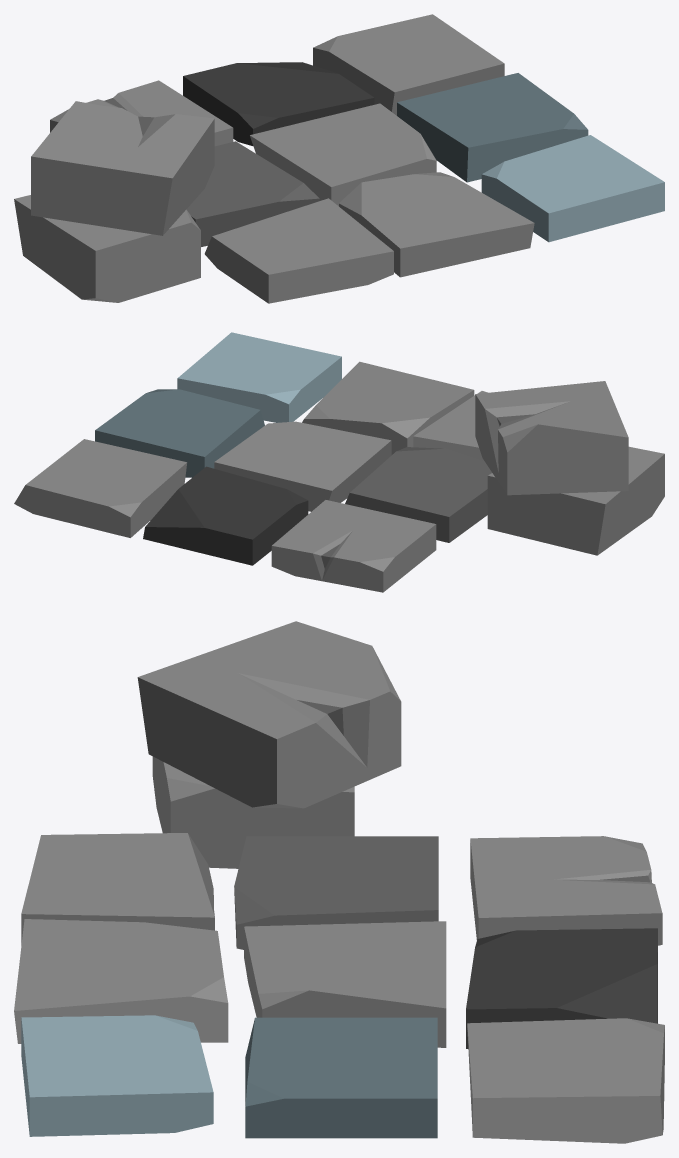
Rendered from road_3.glb.
3 views of the same model, one above another, from view 1: azimuth 30°, elevation 25°; view 2: azimuth 150°, elevation 25°; view 3: azimuth 270°, elevation 25° (orthographic). The views are drawn at different scales.
Visible parts, largest first — view 1: Cube.010, Cube.003, Cube.006, Cube.002, Cube.001, Cube.009, Cube.004, Cube, Cube.005, Cube.007, Cube.008; view 2: Cube.010, Cube, Cube.008, Cube.005, Cube.009, Cube.002, Cube.004, Cube.007, Cube.001, Cube.003, Cube.006; view 3: Cube.010, Cube, Cube.001, Cube.002, Cube.003, Cube.004, Cube.007, Cube.008, Cube.005, Cube.006, Cube.009.
Boxes of the visible parts, <box> form: Cube.010: <box>31,101,214,235</box>; Cube.003: <box>339,172,534,277</box>; Cube.006: <box>204,198,393,303</box>; Cube.002: <box>481,135,664,242</box>; Cube.001: <box>397,73,588,182</box>; Cube.009: <box>14,195,200,302</box>; Cube.004: <box>250,103,436,206</box>; Cube: <box>313,14,504,115</box>; Cube.005: <box>183,62,374,145</box>; Cube.007: <box>186,141,319,246</box>; Cube.008: <box>50,80,233,146</box>; Cube.010: <box>475,381,628,495</box>; Cube: <box>14,439,187,537</box>; Cube.008: <box>271,500,436,592</box>; Cube.005: <box>143,466,308,565</box>; Cube.009: <box>487,446,664,555</box>; Cube.002: <box>177,332,341,422</box>; Cube.004: <box>214,421,391,511</box>; Cube.007: <box>345,447,491,542</box>; Cube.001: <box>95,389,264,477</box>; Cube.003: <box>302,361,474,454</box>; Cube.006: <box>413,391,487,461</box>; Cube.010: <box>137,621,401,808</box>; Cube: <box>467,1018,664,1143</box>; Cube.001: <box>245,1017,437,1138</box>; Cube.002: <box>21,1015,213,1136</box>; Cube.003: <box>14,919,228,1043</box>; Cube.004: <box>244,921,446,1047</box>; Cube.007: <box>234,836,438,949</box>; Cube.008: <box>470,836,662,945</box>; Cube.005: <box>466,928,657,1048</box>; Cube.006: <box>21,833,214,945</box>; Cube.009: <box>152,756,354,868</box>.
Bounding box in the file's own units: 2.14 × 0.5071 × 1.61.
Materials: 1 (1 with a texture image).
